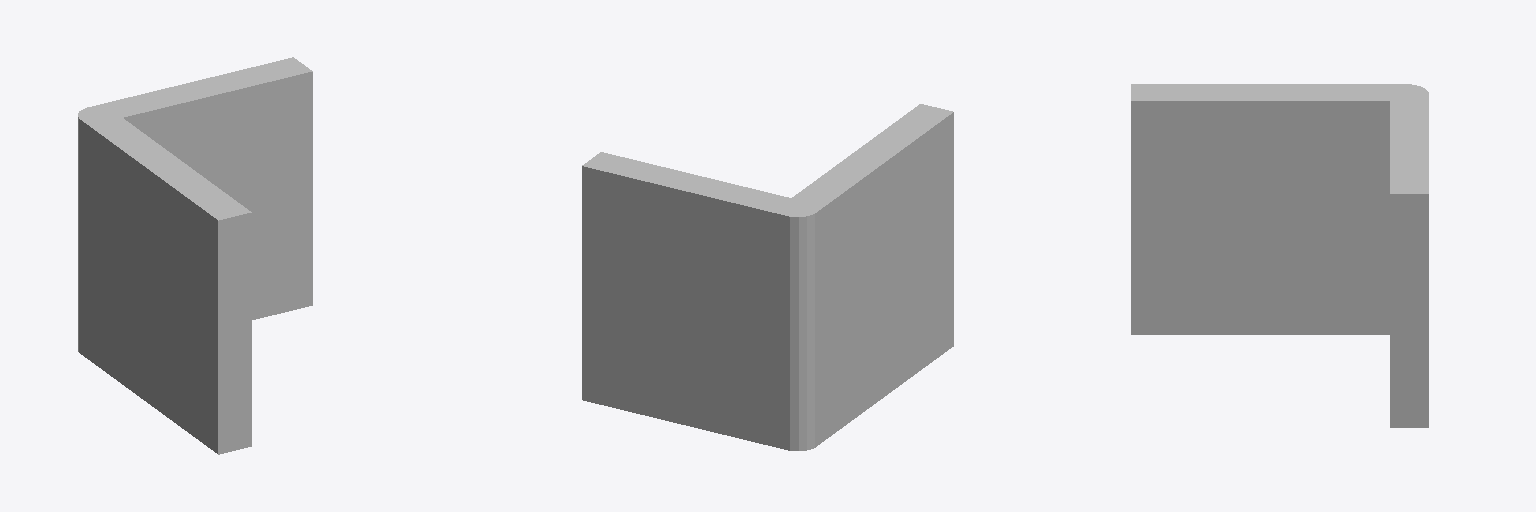
The model's file is anglewall_right(small).obj.
3 renders of one model, left to right at view 1: azimuth 30°, elevation 25°; view 2: azimuth 150°, elevation 25°; view 3: azimuth 270°, elevation 25°, orthographic.
Visible parts, largest first — view 1: anglewall_right(small); view 2: anglewall_right(small); view 3: anglewall_right(small).
Boxes of the visible parts, <box> form: anglewall_right(small): <box>78,57,312,454</box>; anglewall_right(small): <box>582,104,953,450</box>; anglewall_right(small): <box>1131,84,1428,427</box>.
Size of the model in its own units: 1 by 1 by 1.15.